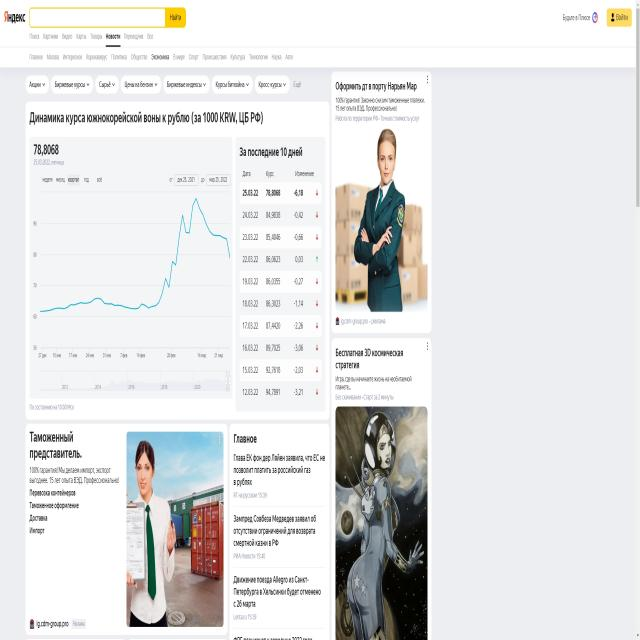menu-bar: (556, 2, 634, 31)
search: (24, 6, 186, 29)
tab-bar: (27, 45, 295, 66), (29, 26, 153, 45)
